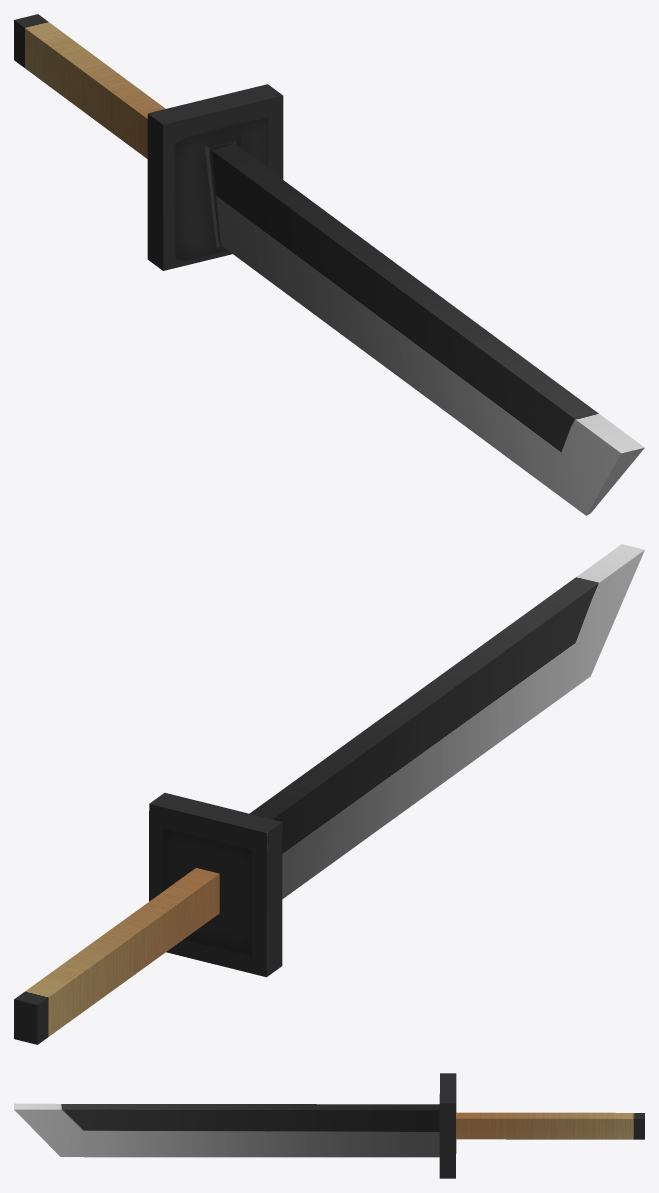
Rendered from Katana_Mesh.fbx.
The picture shows the model from 3 angles, top to bottom: view 1: azimuth 30°, elevation 25°; view 2: azimuth 150°, elevation 25°; view 3: azimuth 270°, elevation 25°; orthographic projection. The views are drawn at different scales.
Visible parts, largest first — view 1: sword1; view 2: sword1; view 3: sword1.
Boxes of the visible parts, x1=… form: sword1: x1=14, y1=14, x2=644, y2=515; sword1: x1=14, y1=544, x2=644, y2=1044; sword1: x1=14, y1=1073, x2=644, y2=1178.
Size of the model in its own units: 0.5923 by 0.6894 by 5.22.
